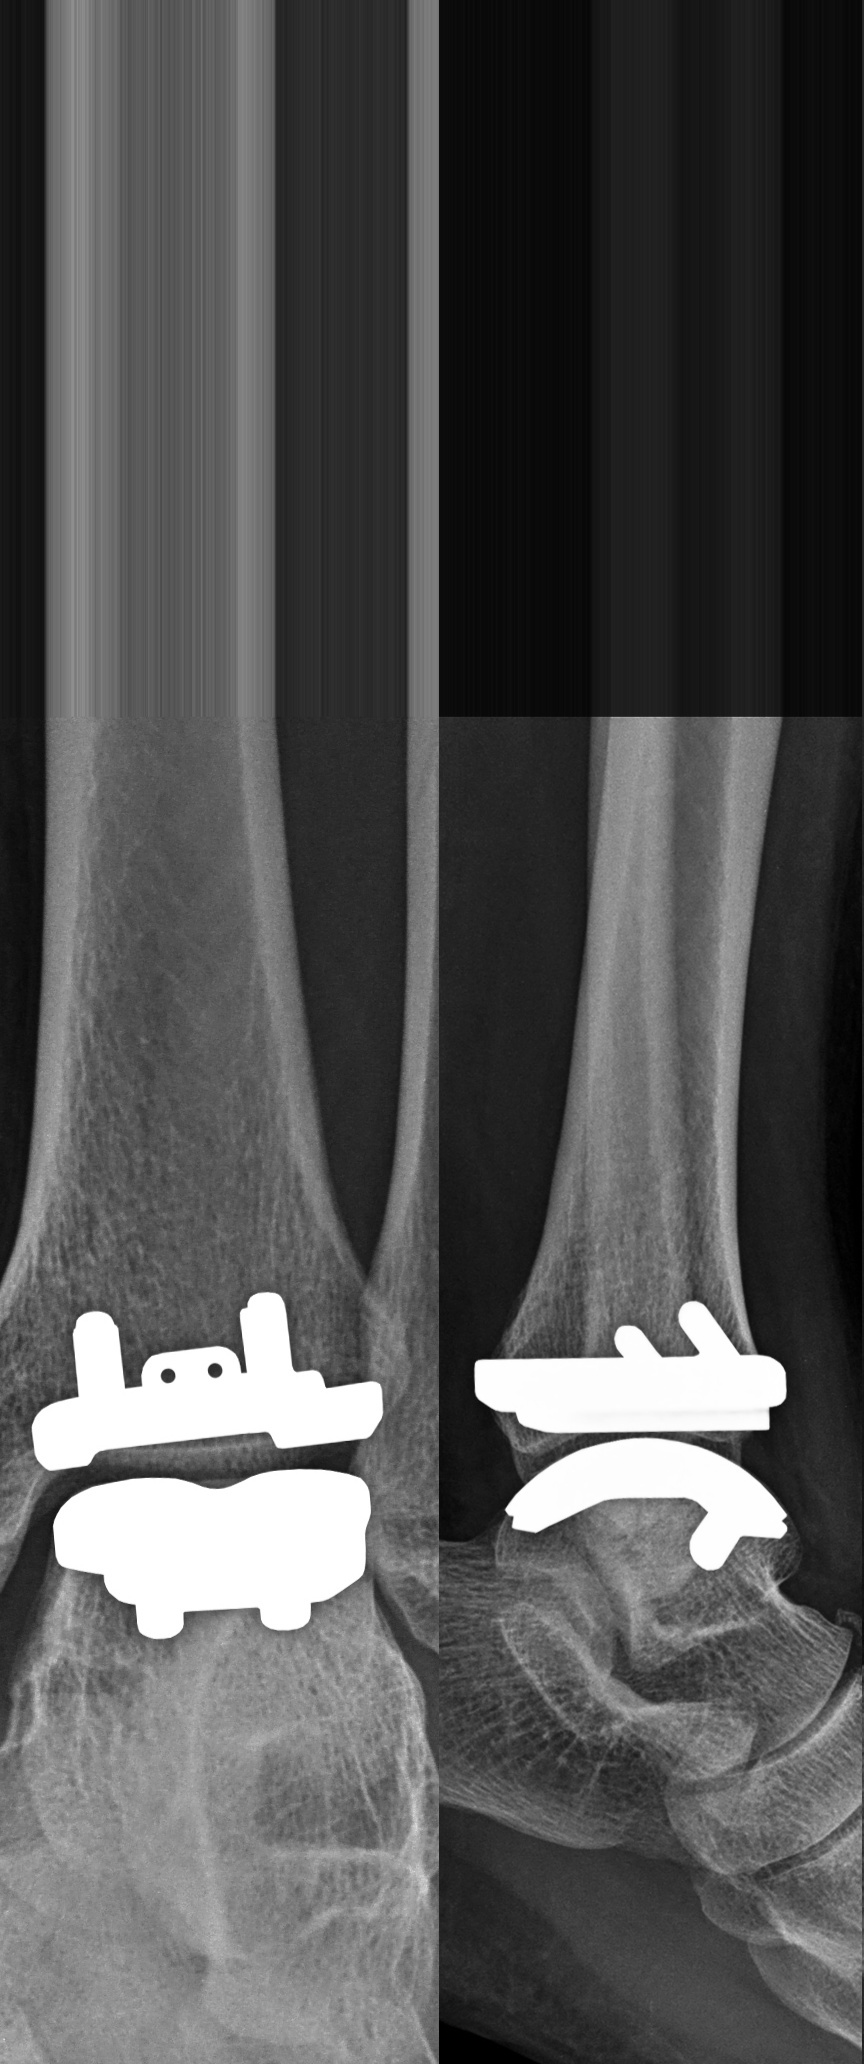Cadence-Integra: (20, 1287, 407, 1640), (452, 1301, 803, 1584)
